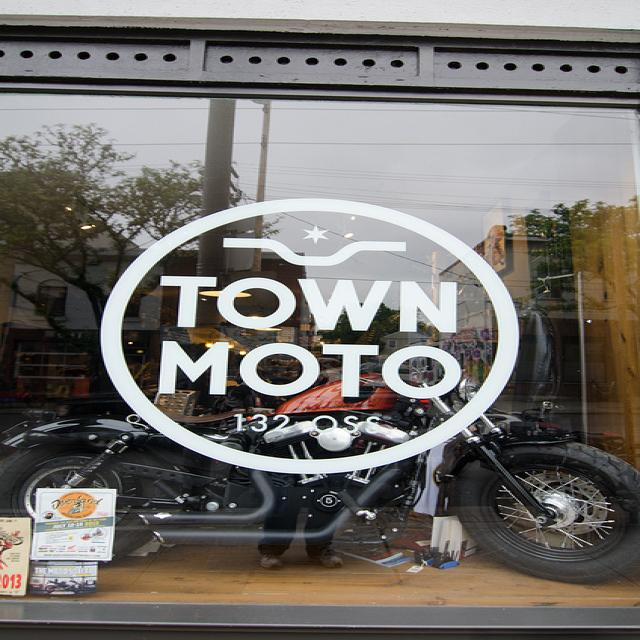motor: (3, 327, 640, 583)
